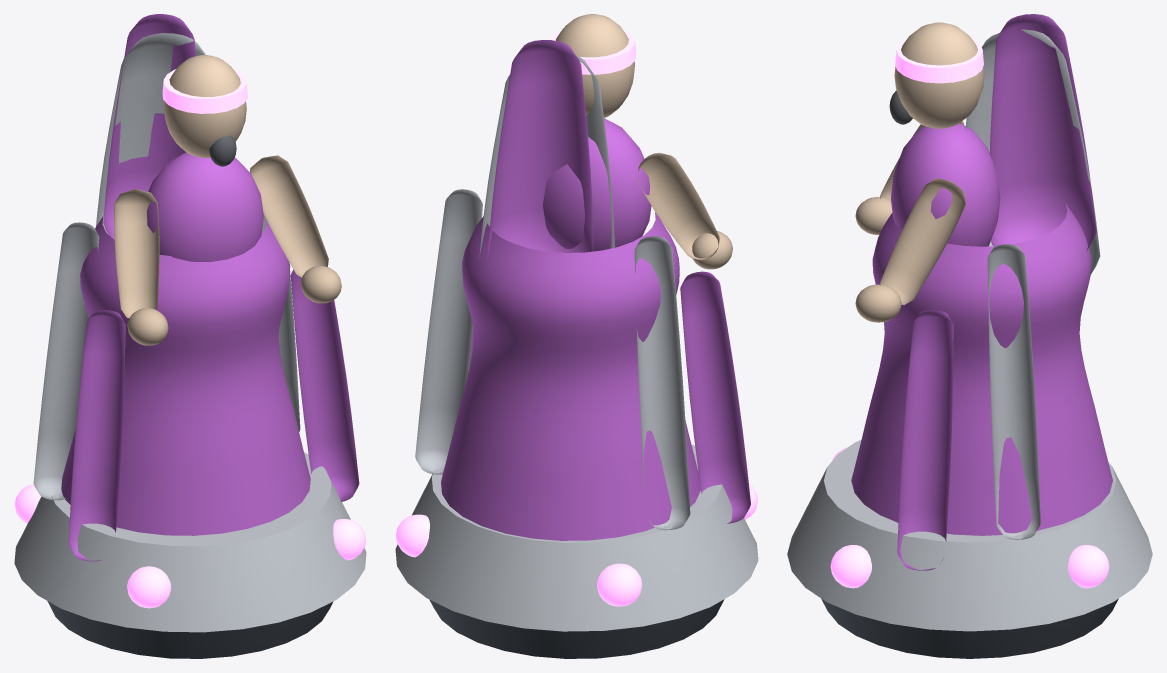
Rendered from yuripr.glb.
3 views of the same model, side by side, from view 1: azimuth 30°, elevation 25°; view 2: azimuth 150°, elevation 25°; view 3: azimuth 270°, elevation 25° (orthographic). The views are drawn at different scales.
Visible parts, largest first — view 1: Hull; view 2: Hull; view 3: Hull.
Boxes of the visible parts, x1,y1,x2,y2 form: Hull: (14,14,366,658); Hull: (395,14,758,658); Hull: (787,14,1152,658).
Bounding box in the file's own units: 0.54 × 0.9435 × 0.54.
